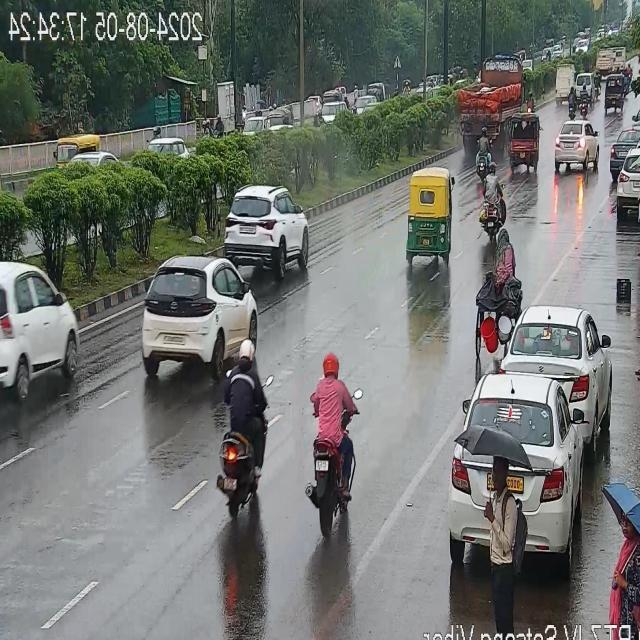2-wheelers: (298, 350, 360, 544), (219, 342, 283, 518), (482, 161, 502, 243), (475, 124, 492, 178), (579, 82, 589, 120), (568, 85, 576, 115), (626, 61, 632, 89)
auto: (470, 230, 518, 358), (406, 168, 449, 266), (509, 110, 539, 168), (56, 131, 96, 167), (602, 76, 624, 114)
car: (448, 377, 596, 562), (138, 255, 264, 379), (507, 304, 611, 419), (0, 251, 79, 395), (217, 185, 311, 272), (550, 119, 598, 172), (618, 155, 640, 213), (611, 128, 640, 169), (574, 74, 592, 100), (631, 104, 640, 130)
pedestrian: (484, 456, 522, 630), (608, 514, 640, 614)
truck: (460, 59, 528, 151), (598, 47, 616, 73), (614, 45, 626, 69)
